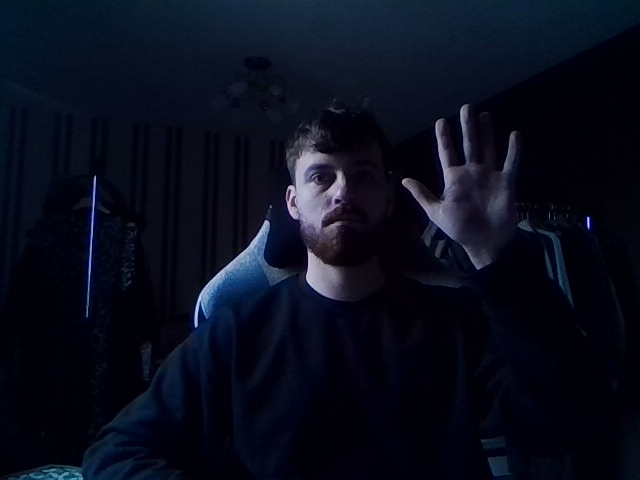Hello: (387, 85, 536, 260)
